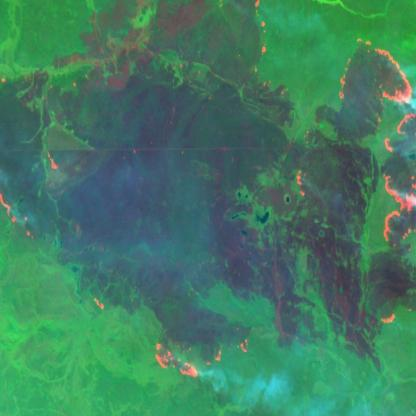fire: (334, 30, 416, 329), (151, 330, 253, 384), (0, 188, 32, 234)
